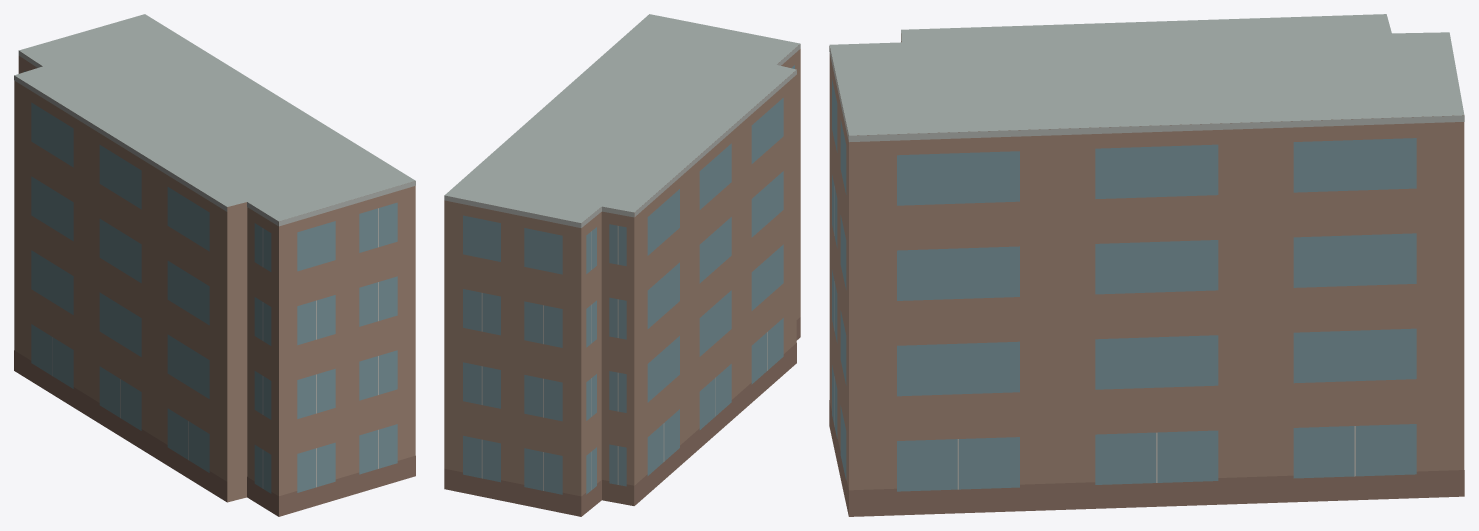
File: survey-upis-33046349.glb
3 views of the same model, side by side, from view 1: azimuth 30°, elevation 25°; view 2: azimuth 150°, elevation 25°; view 3: azimuth 270°, elevation 25° (orthographic). The views are drawn at different scales.
Parts seen in each view (by area): view 1: survey-upis-33046349.tmp; view 2: survey-upis-33046349.tmp; view 3: survey-upis-33046349.tmp.
Part boxes in pixels (x1,y1,x2,y2): survey-upis-33046349.tmp: (14, 14, 415, 516); survey-upis-33046349.tmp: (444, 14, 800, 516); survey-upis-33046349.tmp: (829, 14, 1464, 516).
Bounding box in the file's own units: 9.87 × 14.4 × 21.75.
